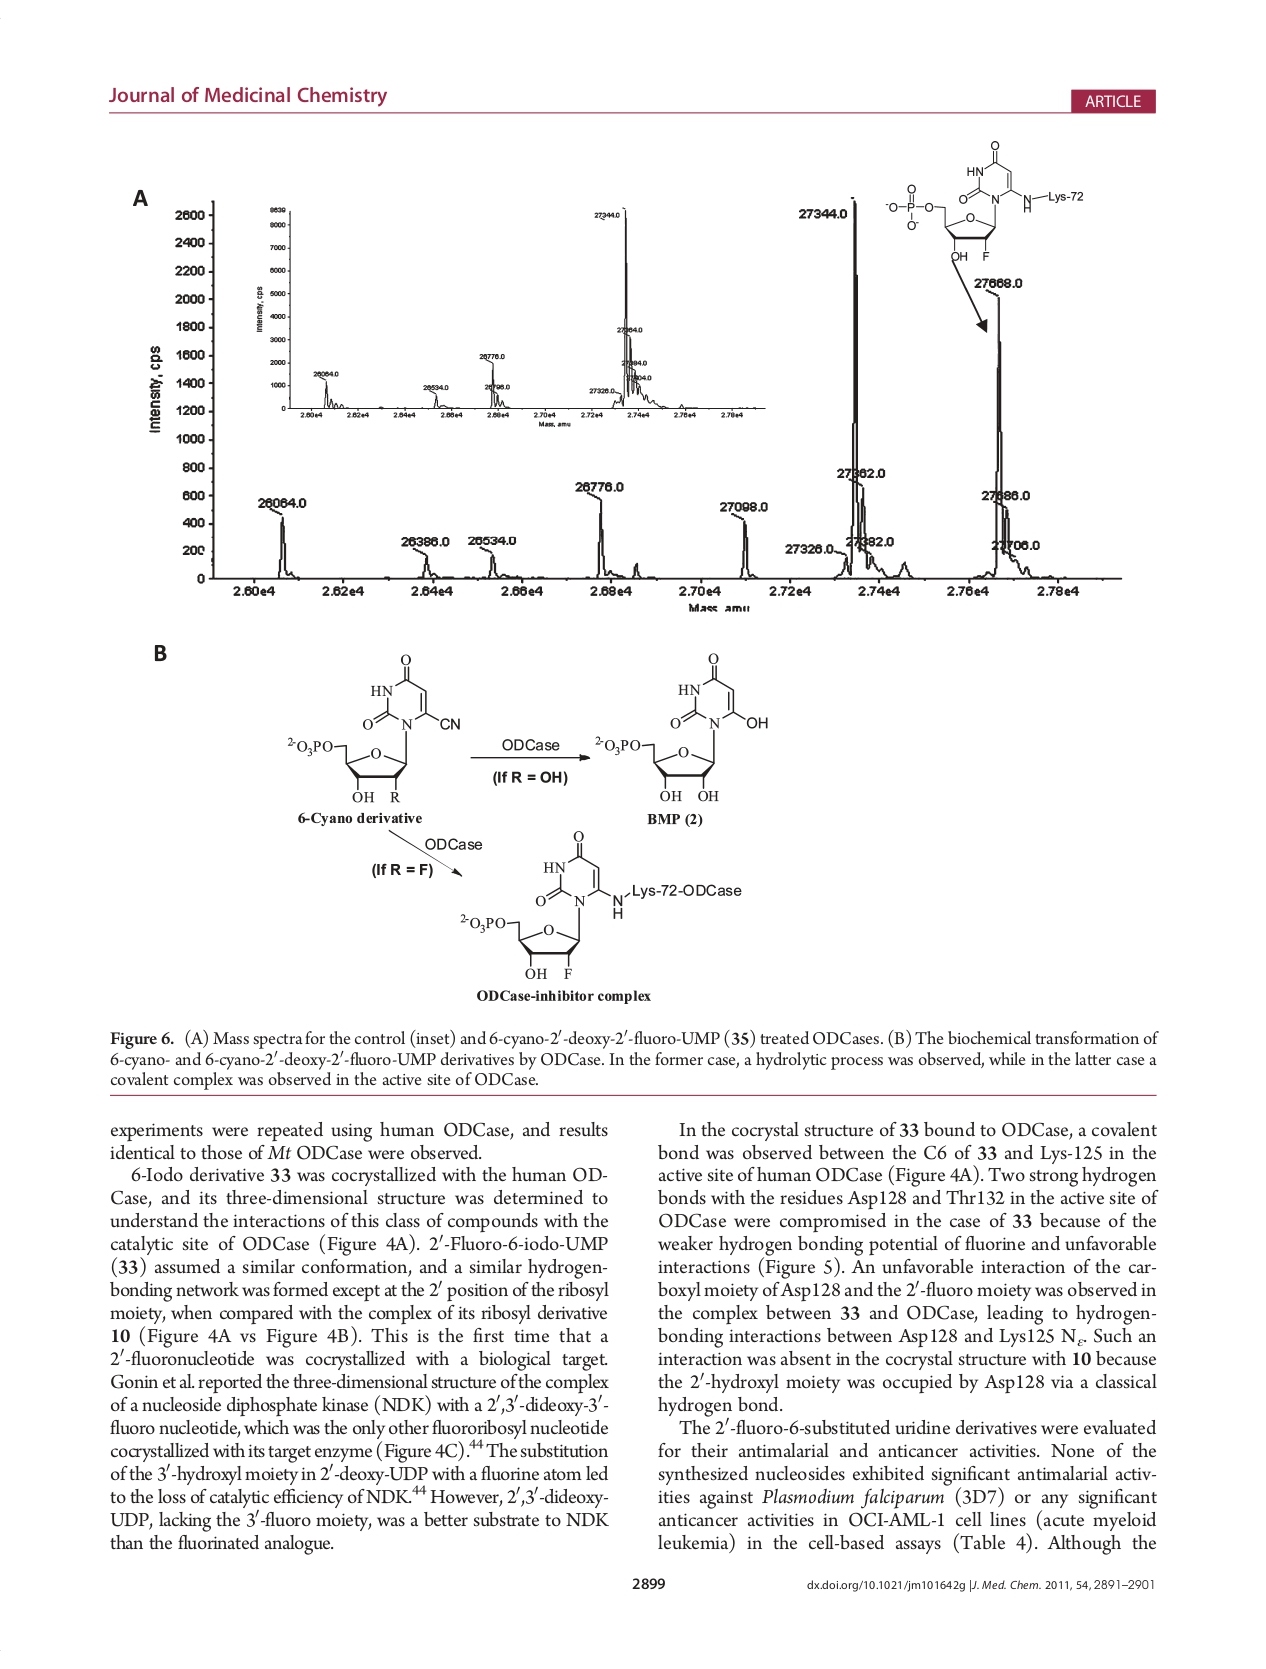exist_molecular: (461, 830, 745, 979), (279, 652, 467, 806), (594, 649, 770, 805), (882, 137, 1086, 265)
